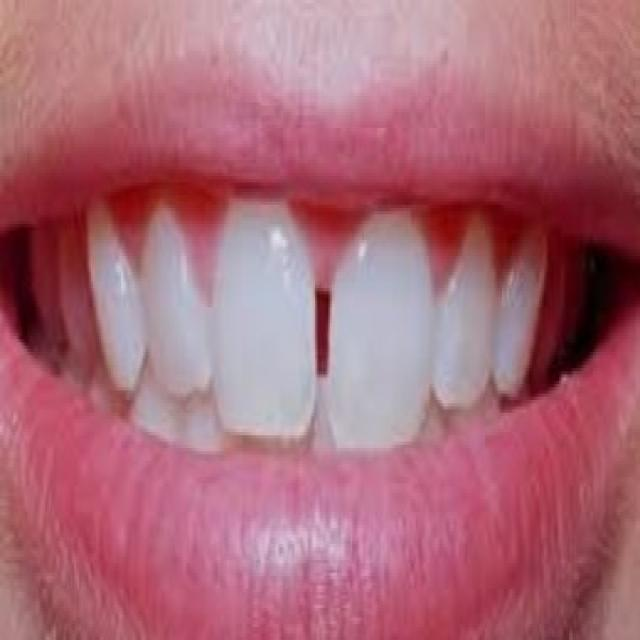tooth: (230, 195, 312, 442), (340, 208, 430, 432), (145, 198, 207, 378), (105, 204, 143, 393), (47, 234, 93, 358), (455, 224, 492, 374), (512, 233, 549, 374)
